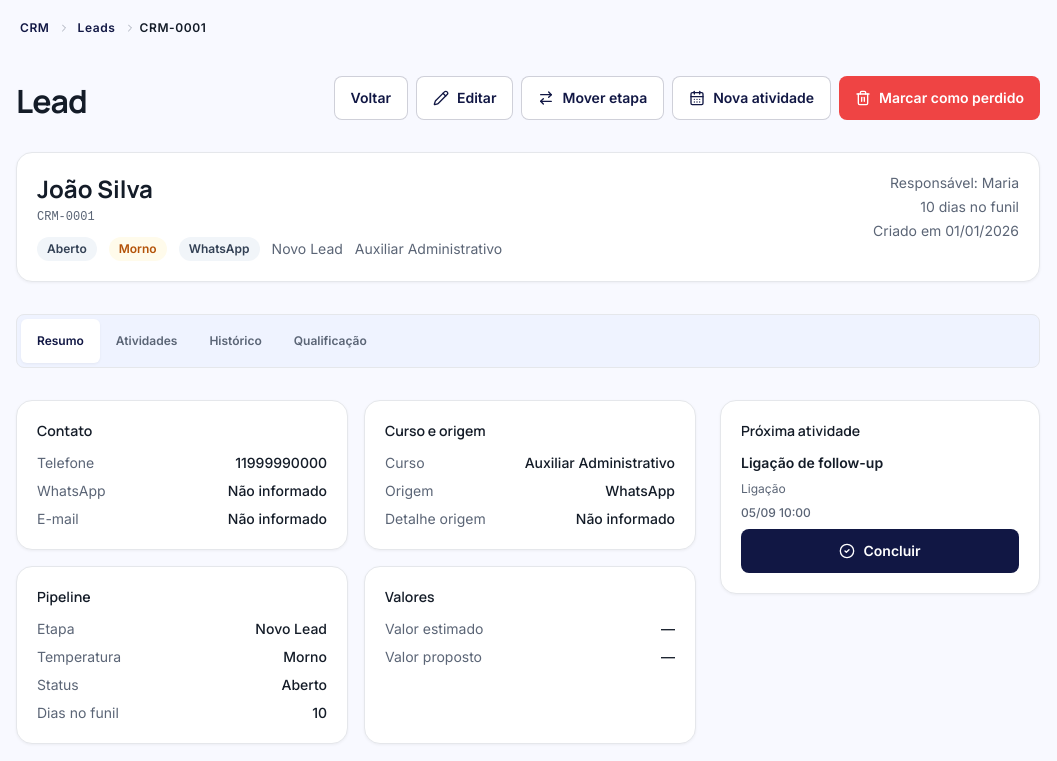
Test: LeadDetailsPage — HistoricoTab (timeline) › shows error state when timeline fails
Click the tab "Histórico" at coordinates (236, 341), box 193,319 -> 278,363
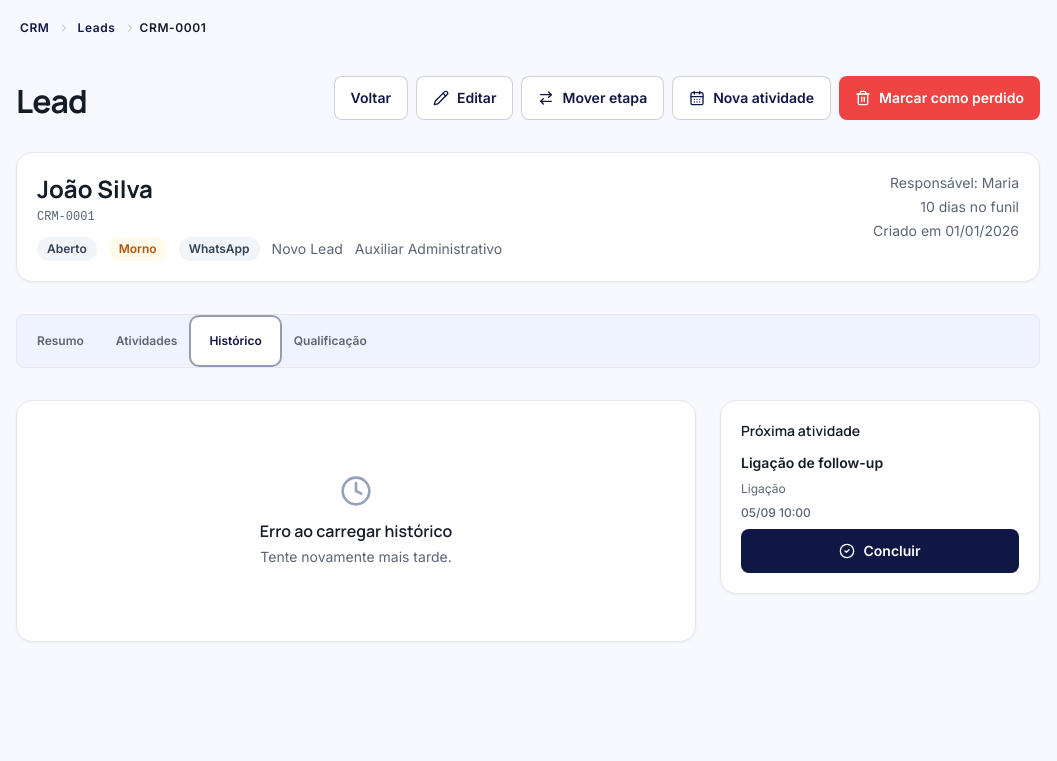
Now the heading "Erro ao carregar histórico" is shown, box 260,519 -> 452,543
